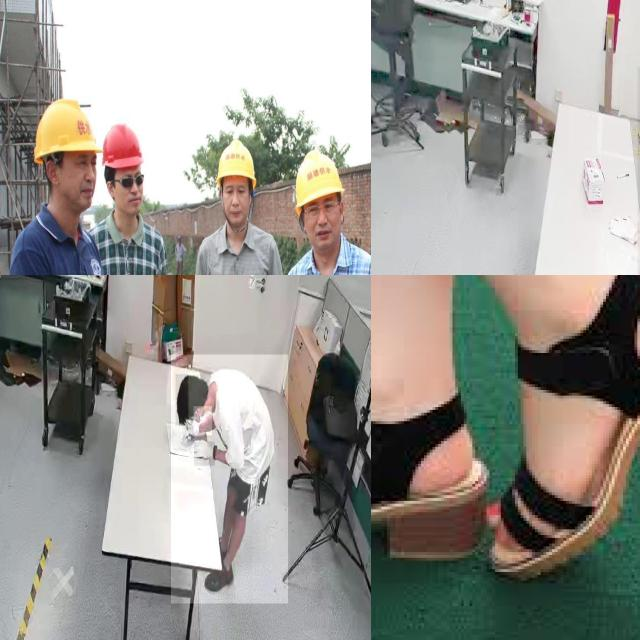No_Ear-Protection: (41, 96, 97, 205), (294, 148, 348, 257), (100, 128, 150, 225), (219, 138, 257, 226)
No_Glasses: (69, 152, 100, 174), (222, 180, 248, 201)
Sandals: (484, 275, 640, 583), (371, 389, 490, 570)
face_mask: (194, 406, 212, 436)
hand_glove: (194, 442, 215, 466)
head_nohelmet: (175, 374, 189, 427)
person: (171, 354, 289, 604)
shoes: (202, 555, 238, 597)
